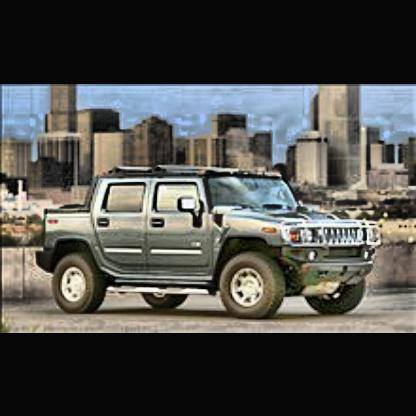HUMMER H2 SUT Crew Cab 2009: (35, 155, 379, 325)
